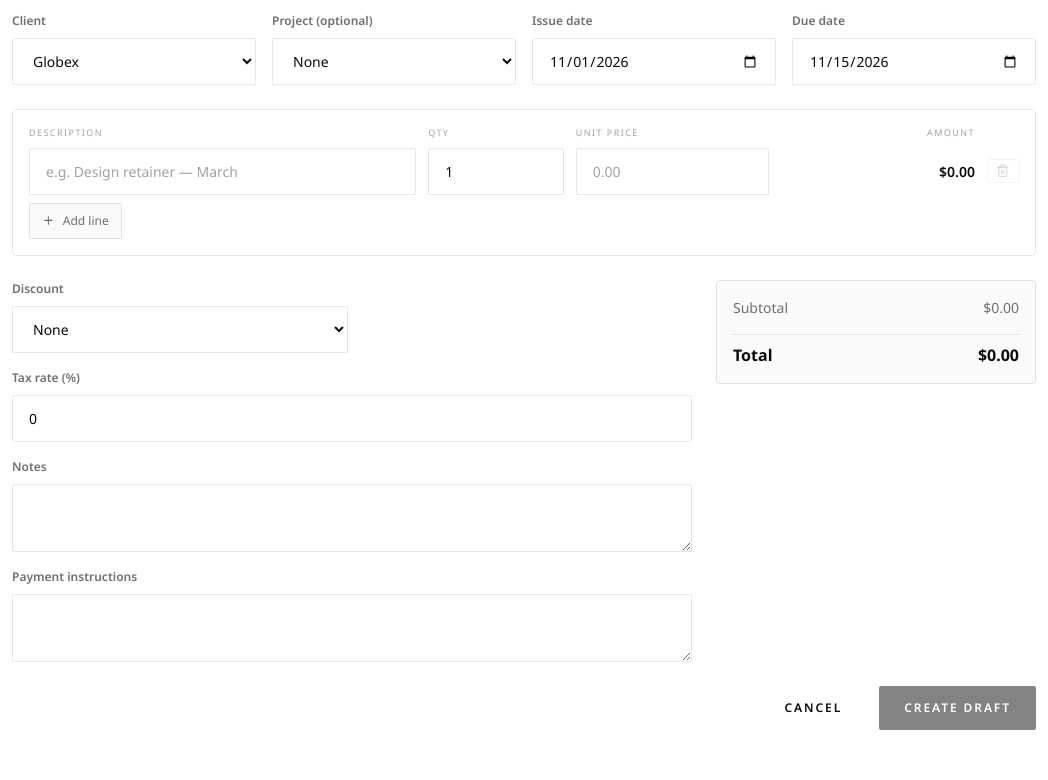
Scenario: InvoiceForm › computes live totals matching the backend formula
Type "Design" into the field named "Line 1 description" at point(223, 171), box [29,148,416,194]
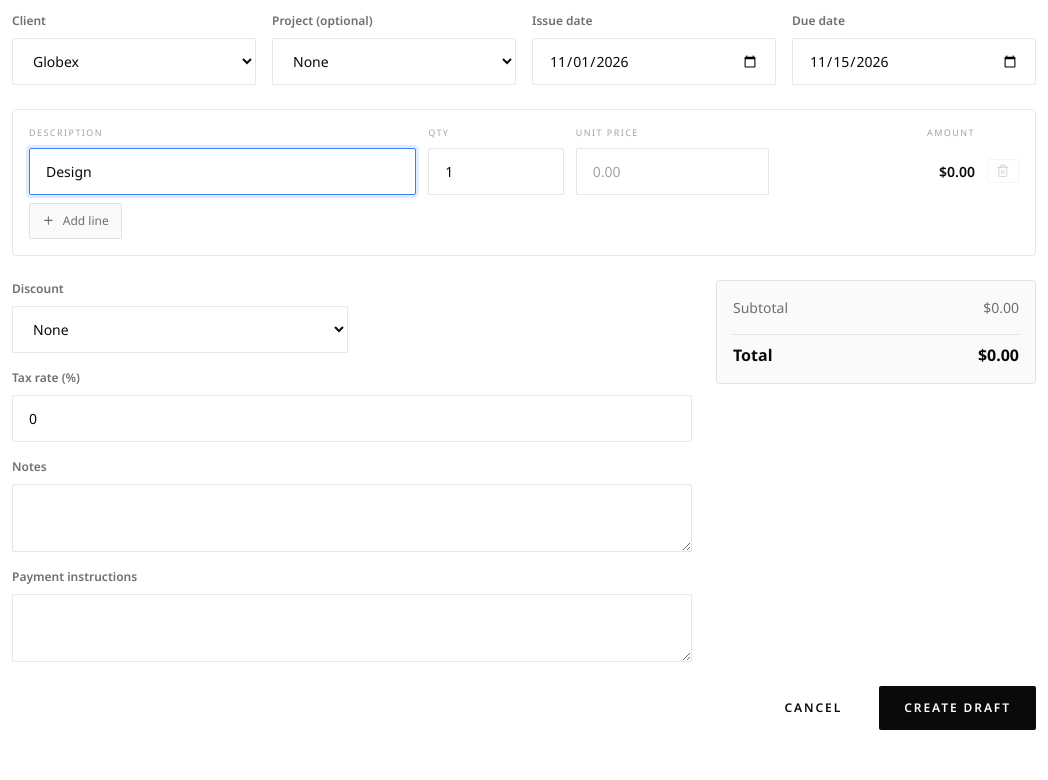
Replace the text in the number field named "Line 1 quantity" with "10" at point(496, 171), box [428,148,564,194]
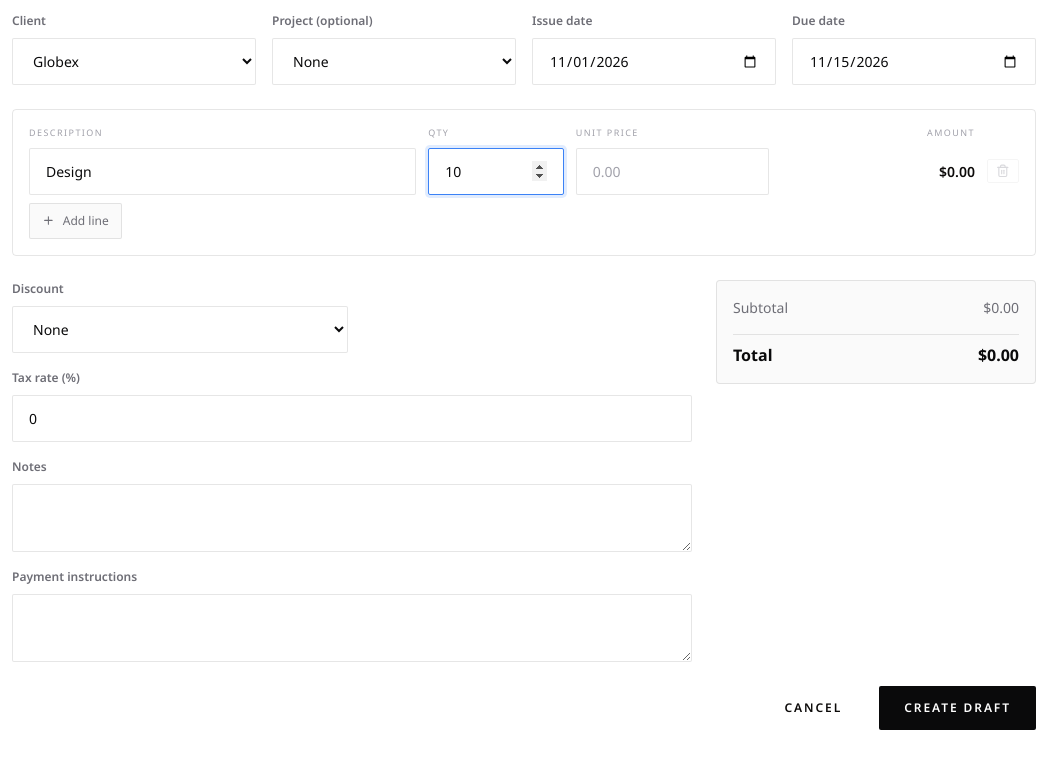
Type "150" into the number field named "Line 1 unit price" at point(673, 171), box [576,148,769,194]
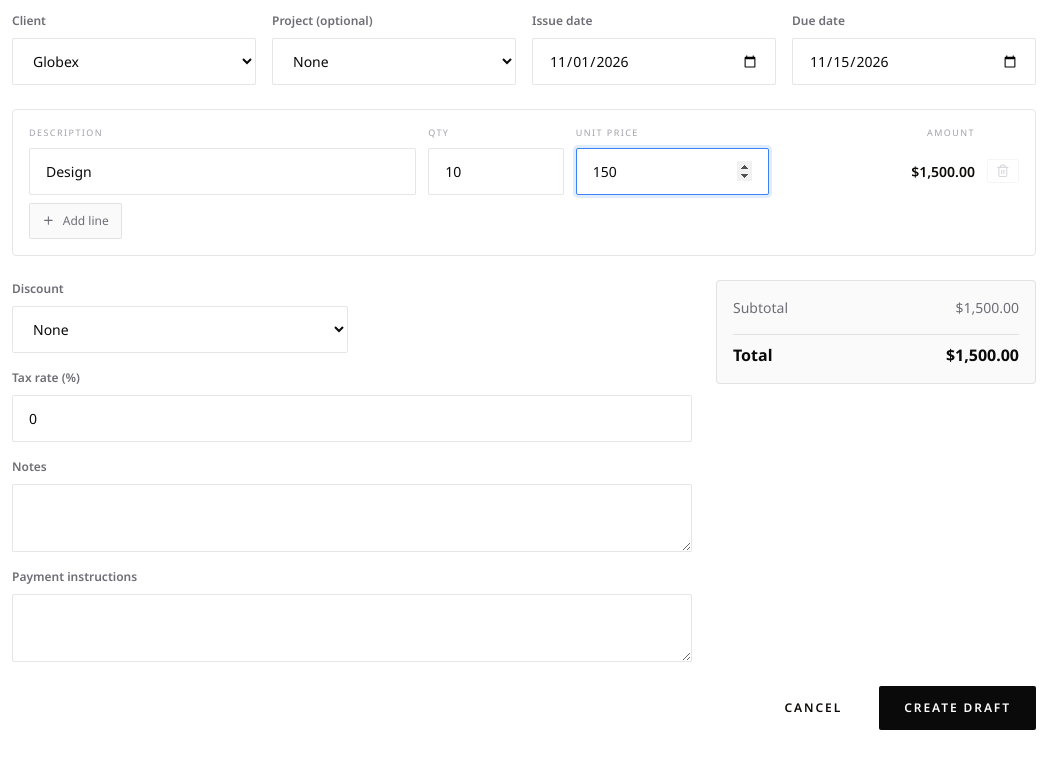
Select "Percentage" in the dropdown labelled "Discount" at point(180, 329), box [12,306,348,352]
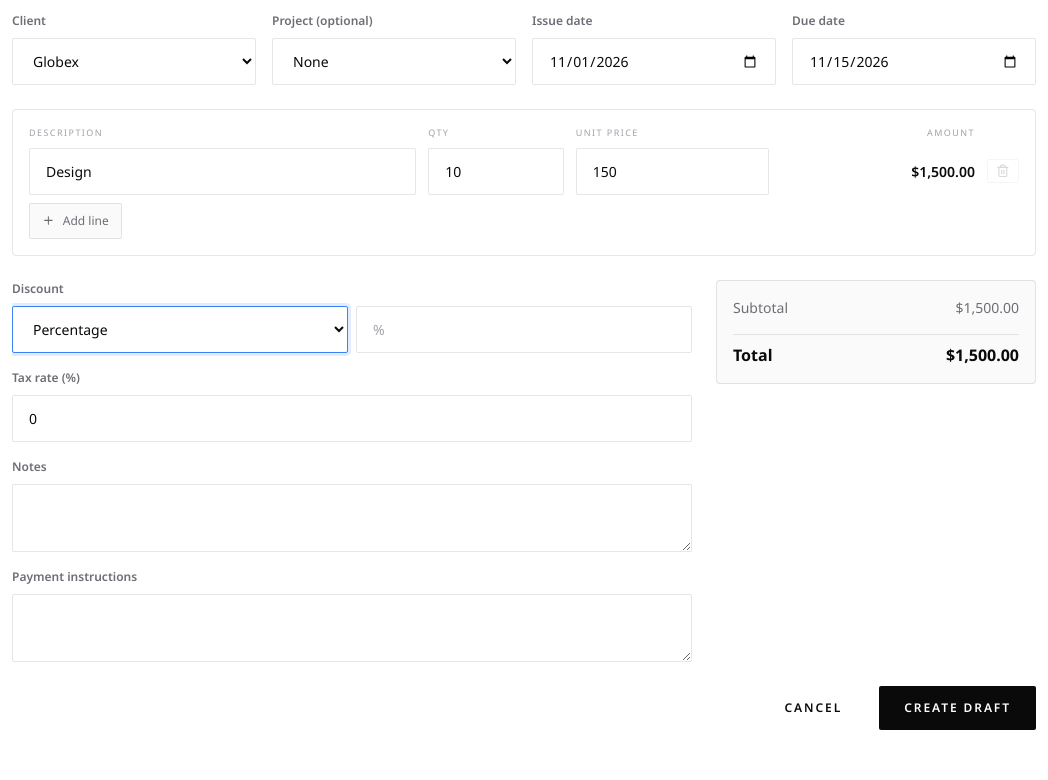
Type "10" into the number field named "Discount value" at point(524, 329), box [356,306,692,352]
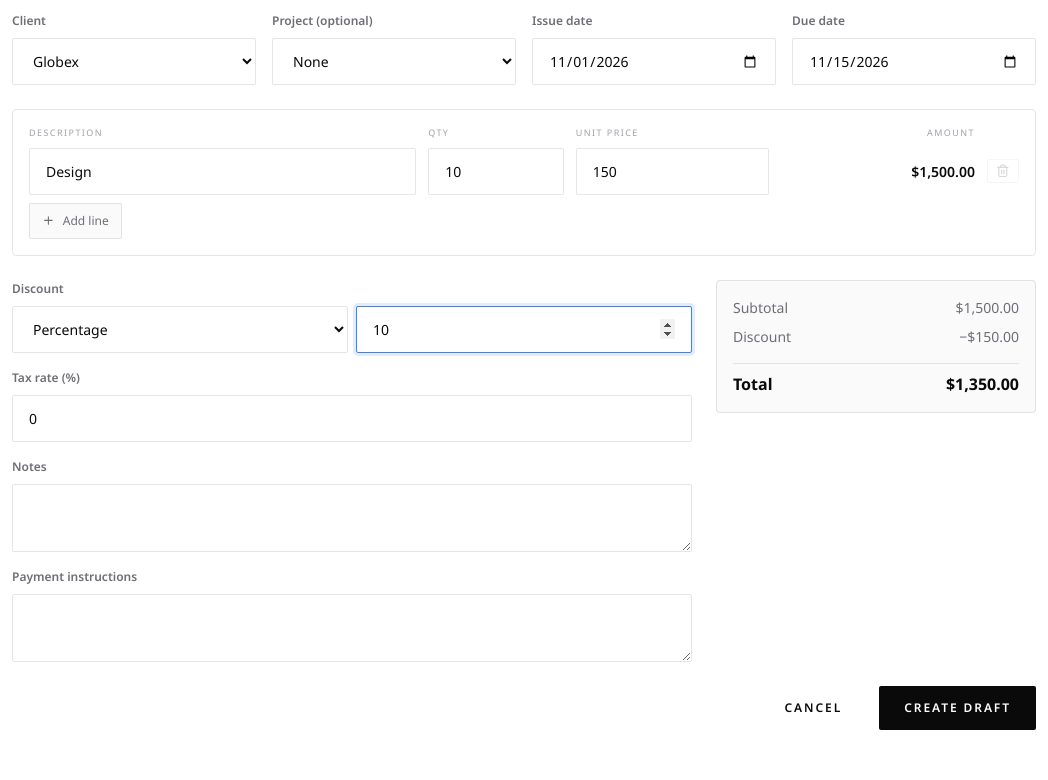
Result: the text "−$150.00" is shown at [959,326,1019,346]
Result: the text "$1,350.00" is shown at [946,372,1019,396]
